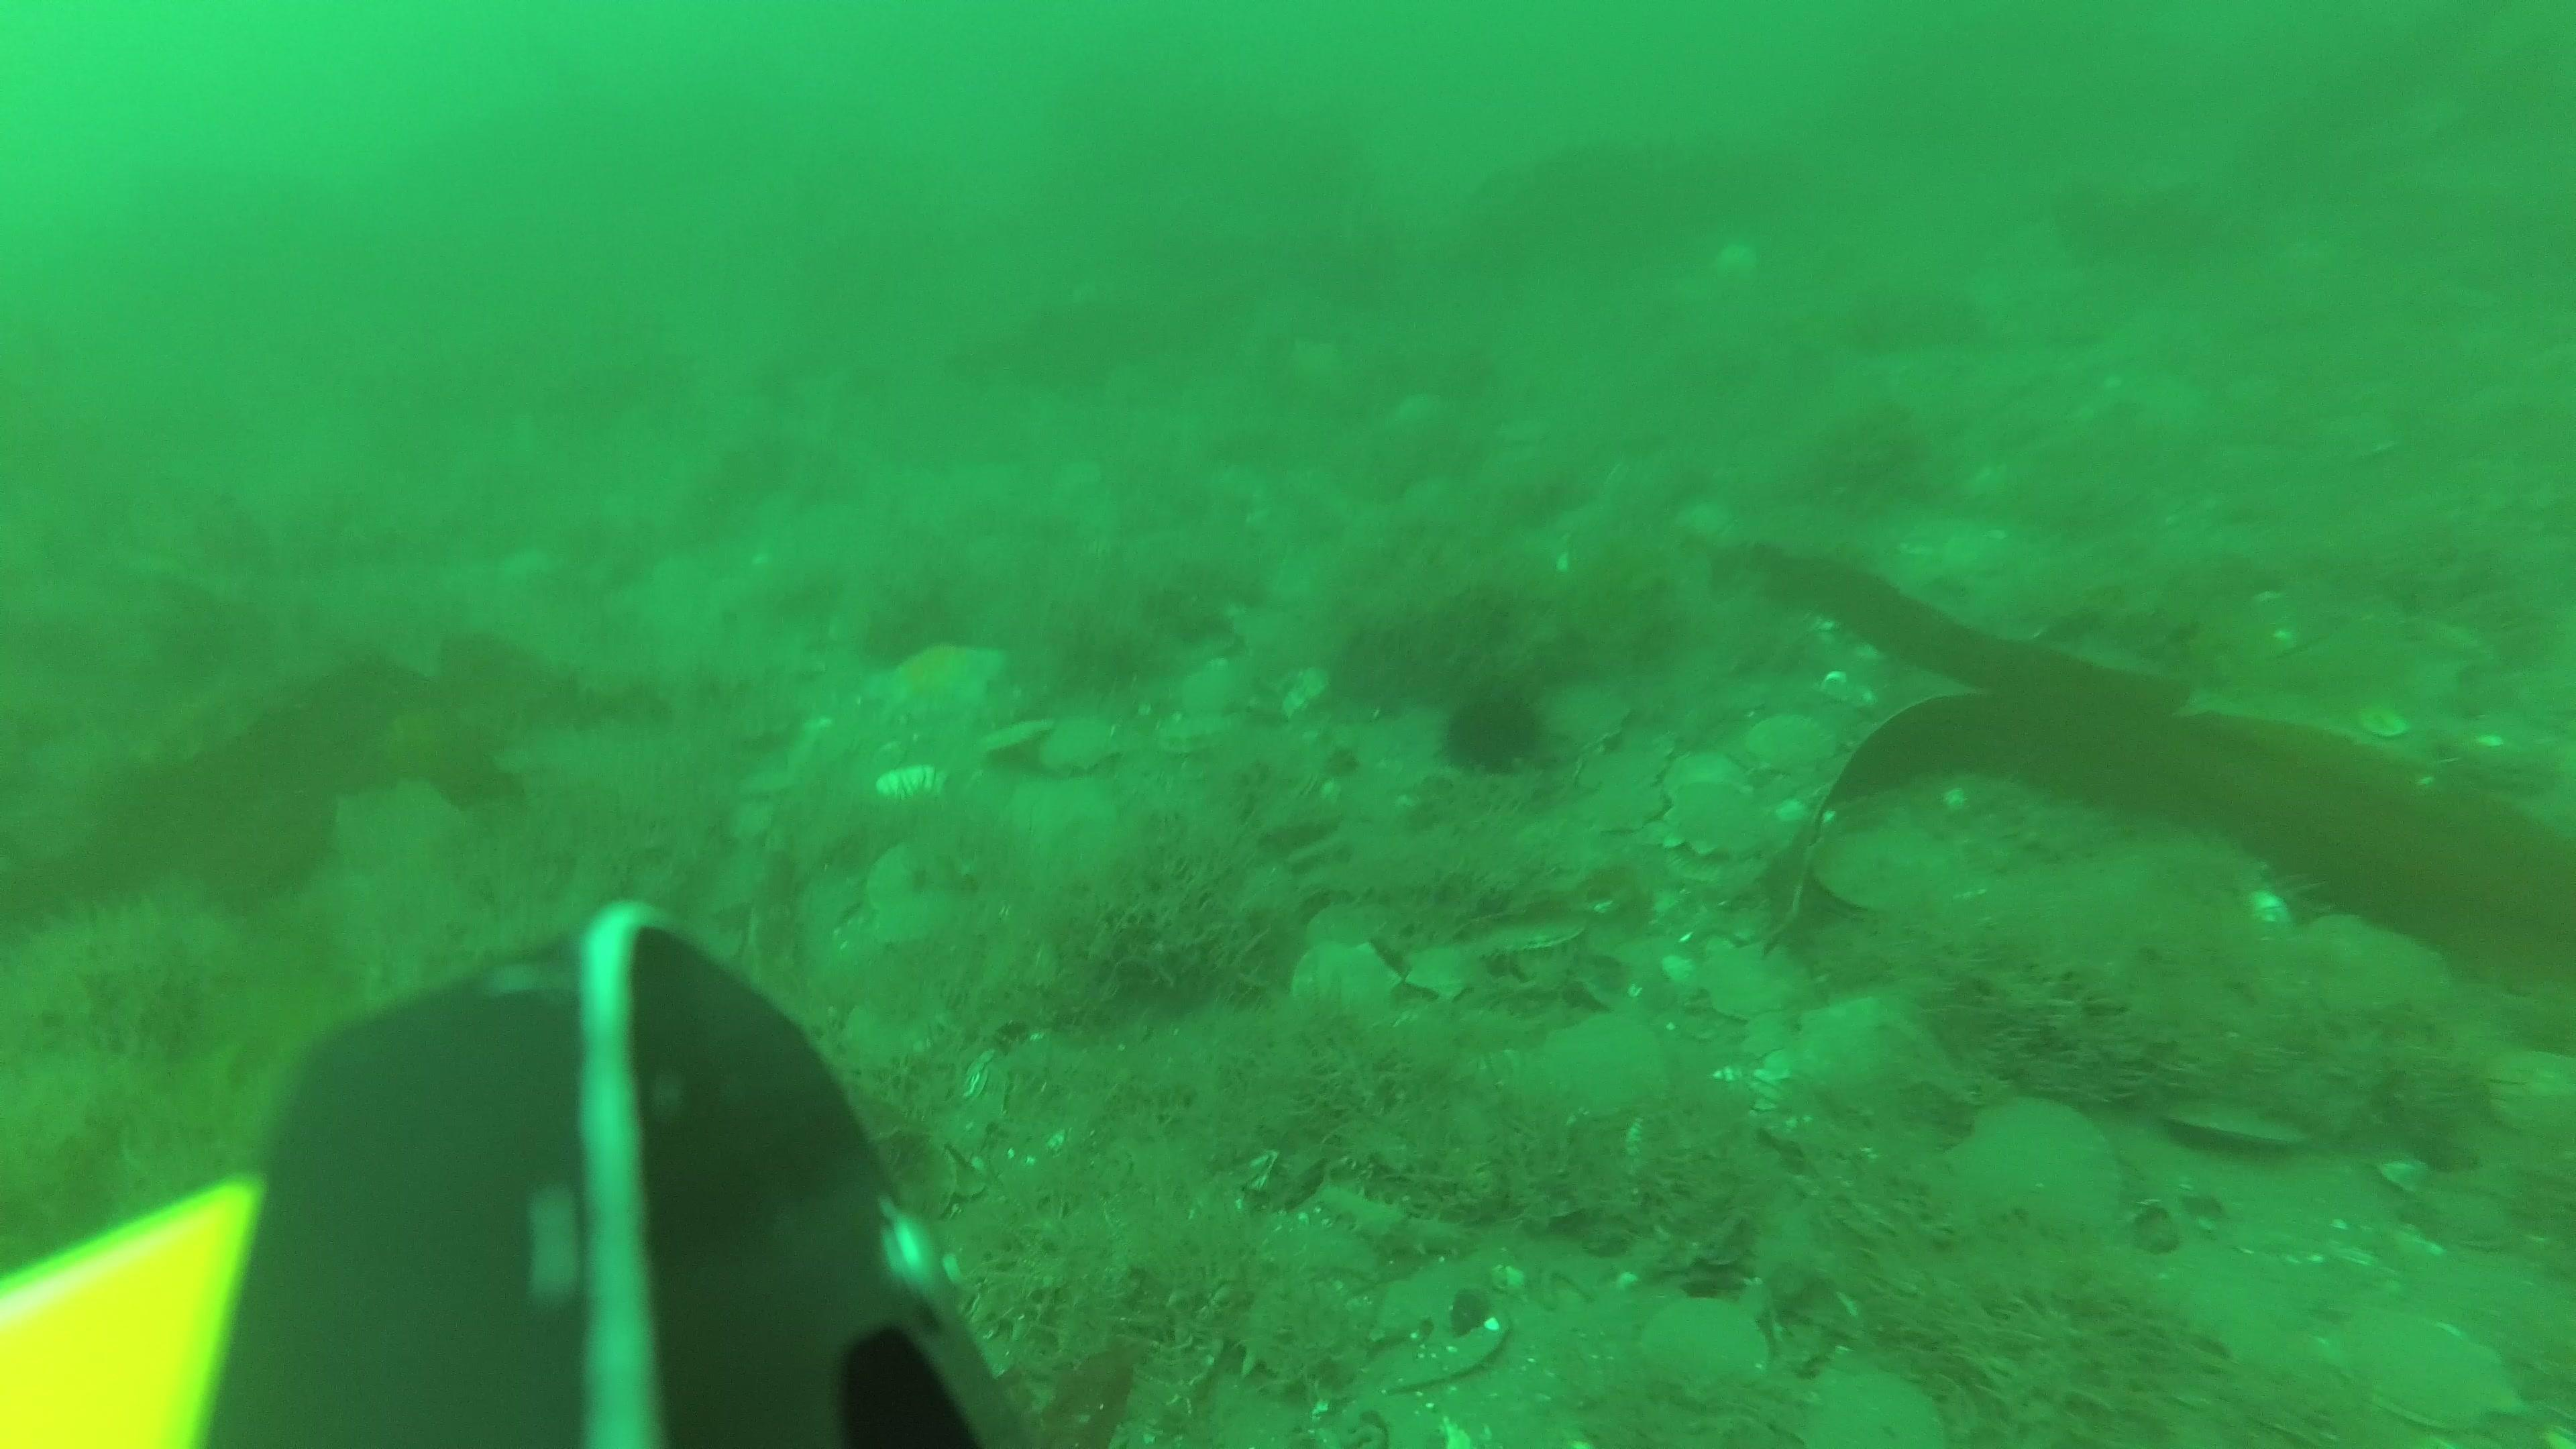echinus: (1438, 690, 1560, 782)
scallop: (2327, 1292, 2516, 1438), (1948, 1088, 2125, 1240), (1808, 824, 1944, 929), (1543, 1014, 1674, 1120), (1640, 1299, 1773, 1401), (2157, 1085, 2316, 1166), (1810, 1362, 1951, 1449), (1794, 993, 1916, 1088), (2484, 1028, 2576, 1139), (2436, 709, 2562, 791), (1702, 941, 1810, 1026), (1286, 941, 1399, 1019), (1670, 775, 1766, 856), (860, 835, 947, 909), (1746, 709, 1842, 777), (1541, 678, 1633, 747), (867, 888, 968, 950), (1470, 915, 1603, 959), (1040, 715, 1123, 782), (1304, 893, 1398, 952), (1576, 782, 1668, 840), (1253, 658, 1334, 720), (1405, 941, 1488, 1001), (1154, 711, 1240, 759), (1178, 662, 1244, 720), (1672, 750, 1750, 796), (1582, 748, 1665, 789), (982, 717, 1060, 755), (720, 796, 777, 844), (734, 763, 801, 798)
starfish: (869, 640, 1010, 736)
